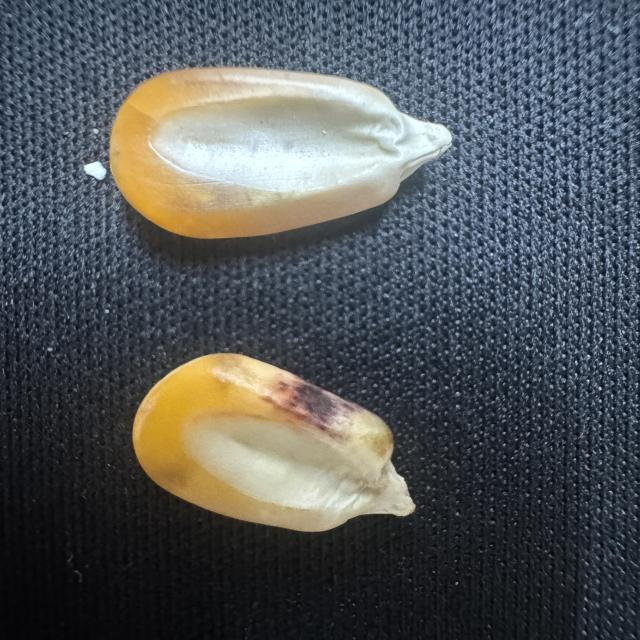Bad-Seed: (123, 347, 427, 538)
Good-Seed: (108, 61, 460, 243)
